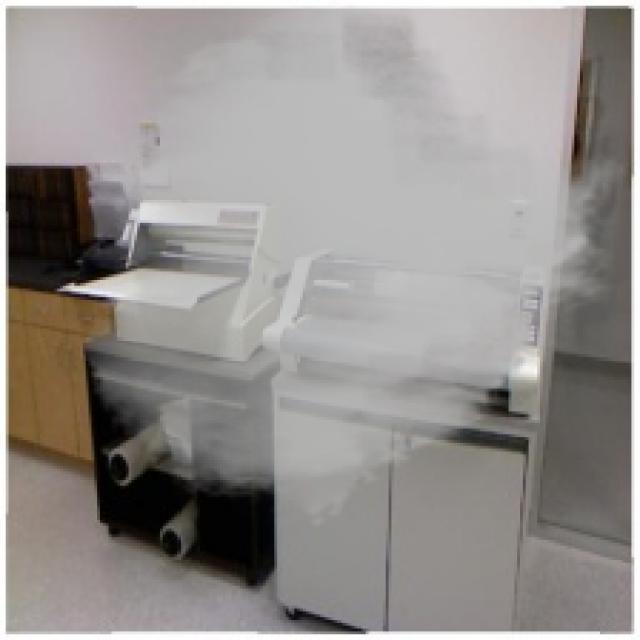Smoke: (80, 0, 629, 529)
